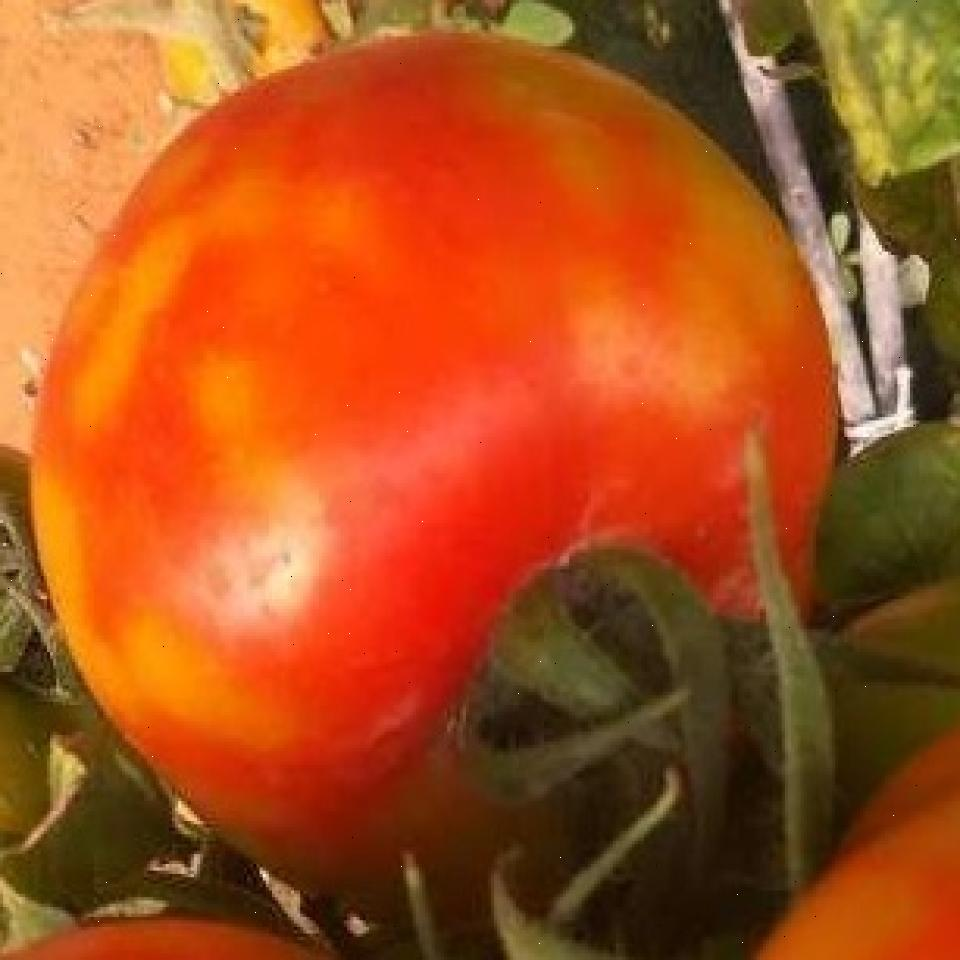Spotted wilt Virus: (28, 30, 840, 924)
